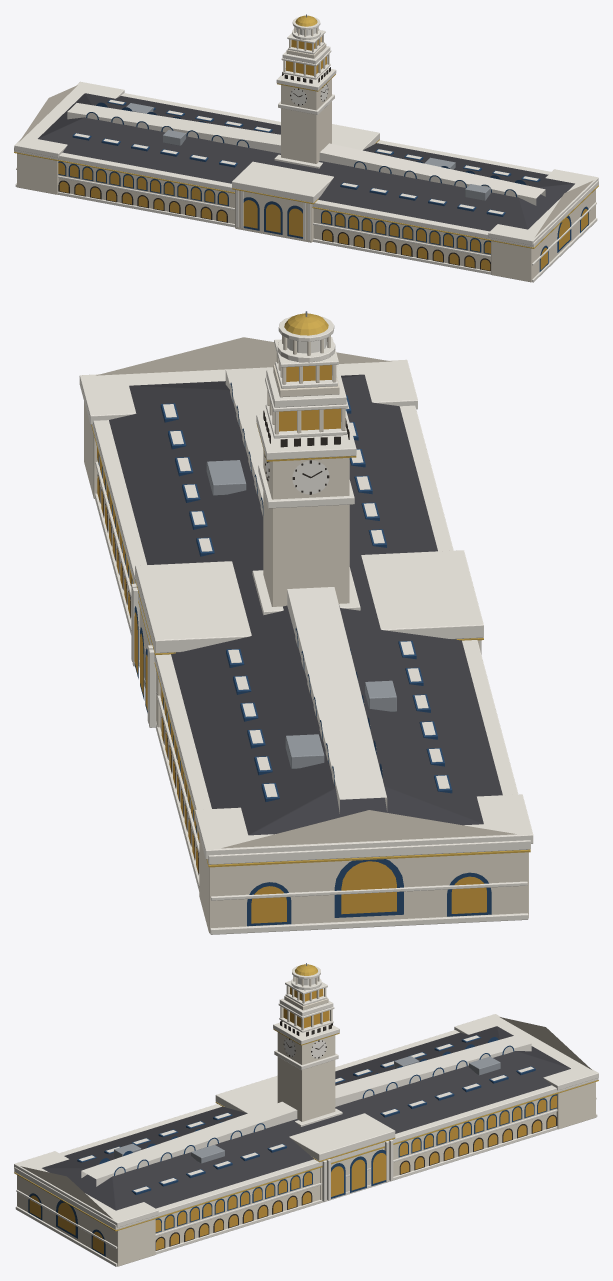
File: ferry-building.glb
3 renders of one model, top to bottom at view 1: azimuth 30°, elevation 25°; view 2: azimuth 150°, elevation 25°; view 3: azimuth 270°, elevation 25°, orthographic. The views are drawn at different scales.
Parts seen in each view (by area): view 1: main_roof, clerestory, main_body, main_cornice, central_entablature, tower_lower, end_cornice_-1, end_cornice_1, base_plinth, end_pavilion_1, end_pavilion_-1, central_pavilion (+9 smaller); view 2: main_roof, central_entablature, main_cornice, clerestory, main_body, tower_lower, end_pavilion_-1, end_cornice_-1, end_cornice_1, northwest_gable, base_plinth, southeast_gable (+17 smaller); view 3: main_roof, clerestory, main_cornice, main_body, central_entablature, tower_lower, end_pavilion_1, end_cornice_-1, base_plinth, end_cornice_1, end_pavilion_-1, belt_course (+10 smaller).
Boxes of the visible parts, x1,y1,x2,y2 form: main_roof: (38, 93, 574, 231); clerestory: (67, 103, 545, 205); main_body: (58, 162, 595, 278); main_cornice: (14, 93, 598, 247); central_entablature: (232, 124, 379, 202); tower_lower: (281, 94, 331, 163); end_cornice_-1: (14, 81, 124, 157); end_cornice_1: (488, 169, 598, 245); base_plinth: (15, 183, 597, 282); end_pavilion_1: (491, 189, 595, 282); end_pavilion_-1: (17, 152, 58, 194); central_pavilion: (235, 190, 313, 242); main_roof: (109, 374, 502, 835); central_entablature: (135, 550, 483, 653); main_cornice: (92, 405, 530, 864); clerestory: (225, 367, 387, 813); main_body: (99, 456, 523, 927); tower_lower: (263, 481, 349, 606); end_pavilion_-1: (199, 836, 528, 933); end_cornice_-1: (195, 794, 533, 859); end_cornice_1: (79, 359, 417, 424); northwest_gable: (221, 810, 516, 848); base_plinth: (95, 493, 528, 934); southeast_gable: (96, 337, 391, 375); main_roof: (42, 1026, 570, 1210); clerestory: (81, 1035, 531, 1186); main_cornice: (14, 1030, 598, 1229); main_body: (57, 1095, 556, 1262); central_entablature: (215, 1075, 395, 1160); tower_lower: (277, 1053, 335, 1121); end_pavilion_1: (17, 1175, 155, 1266); end_cornice_-1: (454, 1014, 598, 1090); base_plinth: (15, 1114, 597, 1266); end_cornice_1: (14, 1151, 158, 1227); end_pavilion_-1: (556, 1080, 595, 1129); belt_course: (16, 1097, 596, 1248).
Bounding box in the file's own units: 167 × 74.7 × 198.
